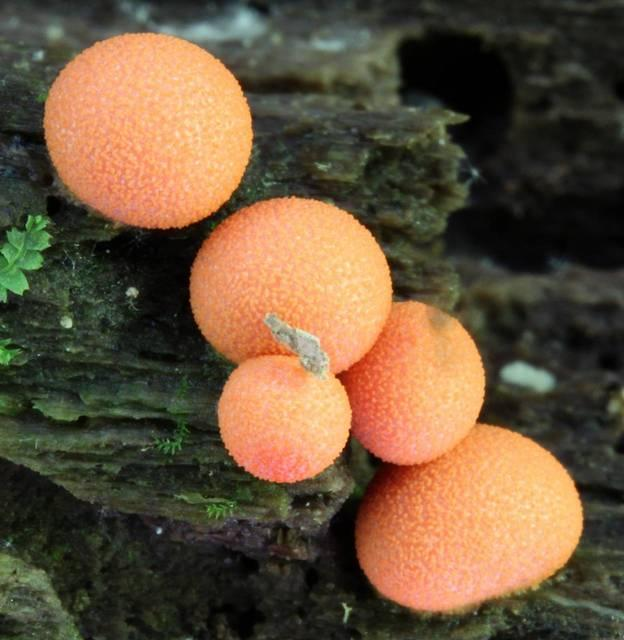Non-edible Mushroom: (41, 29, 585, 616), (353, 421, 584, 617), (41, 30, 254, 230), (187, 194, 393, 375), (341, 298, 486, 466), (215, 352, 352, 484)
